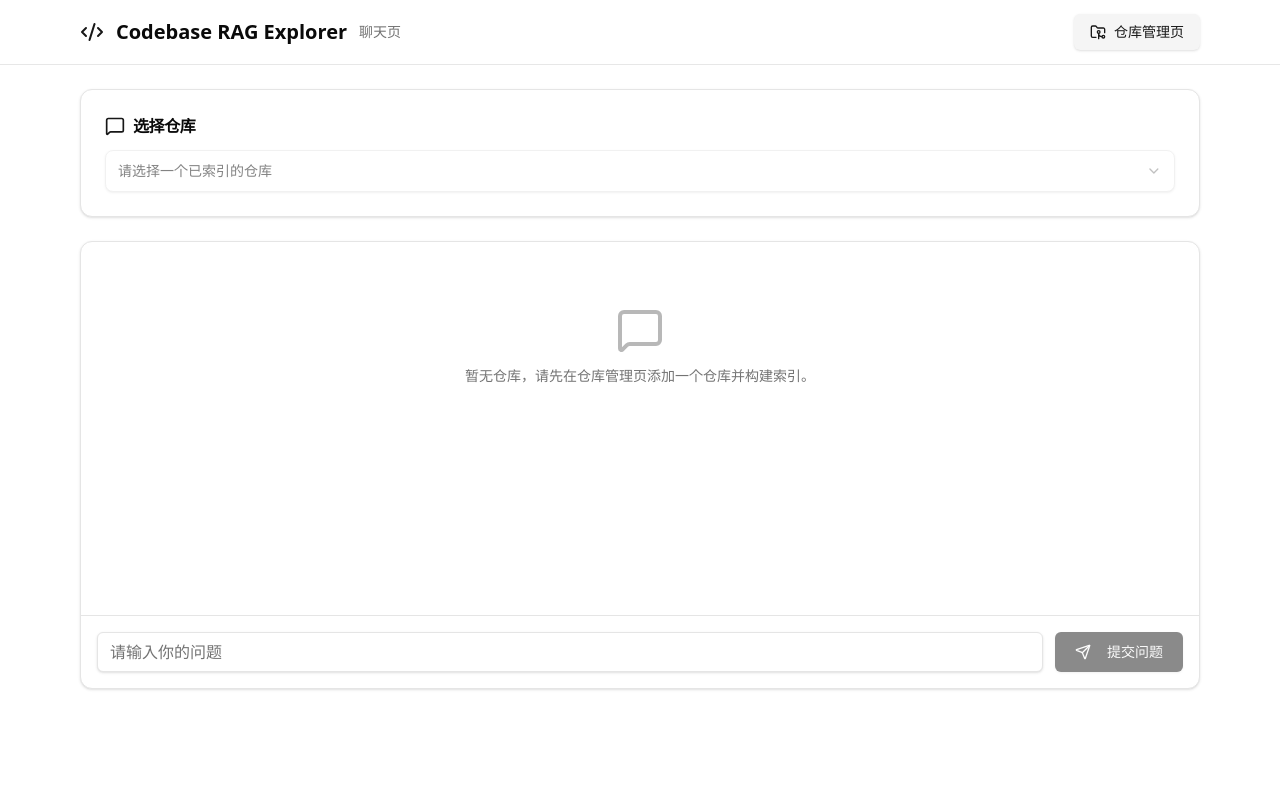
ChatPage › shows explicit guidance when asking before index is built
The width and height of the screenshot is (1280, 800).
Expected: the dropdown is shown, [105,150,1175,192]
Type "Why?" into the field with placeholder "请输入你的问题". click: [570, 652]
box: [97,632,1043,672]
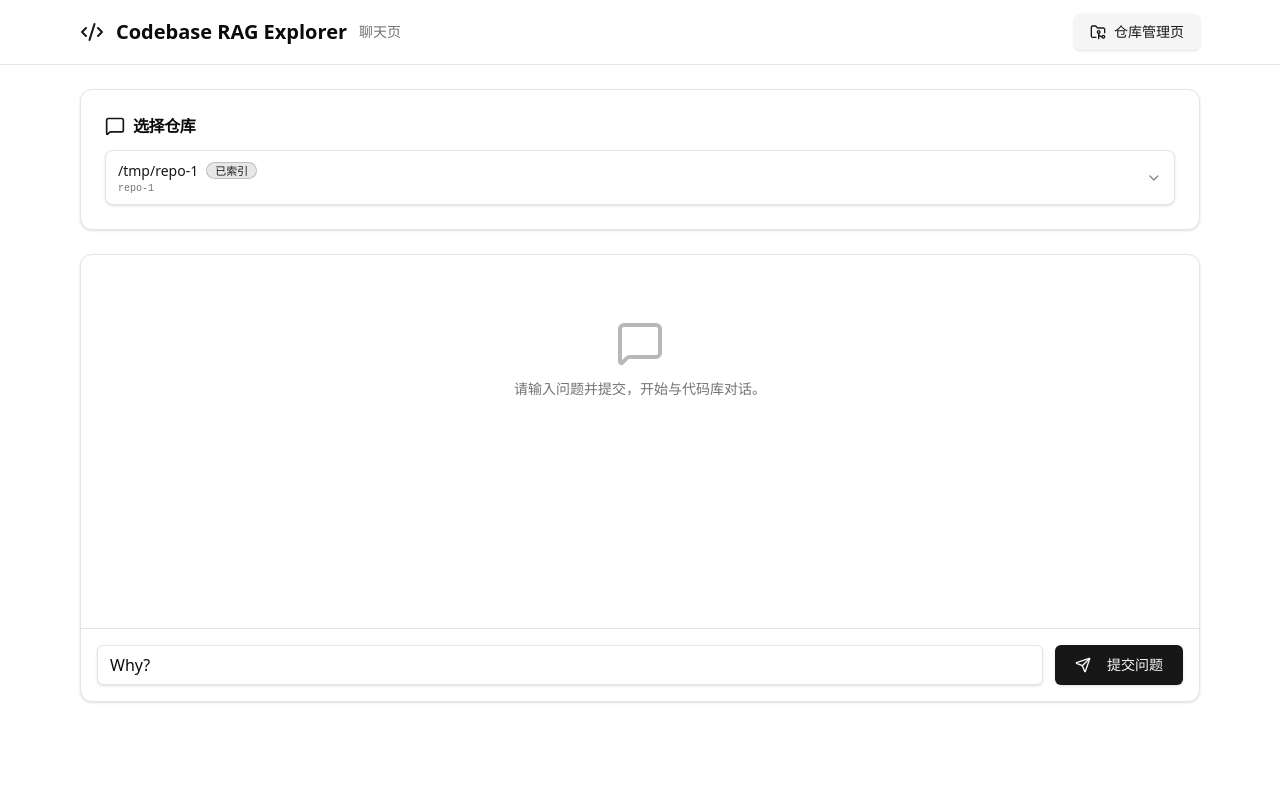
Click the button "提交问题". click: [1119, 665]
box: [1055,645,1183,685]
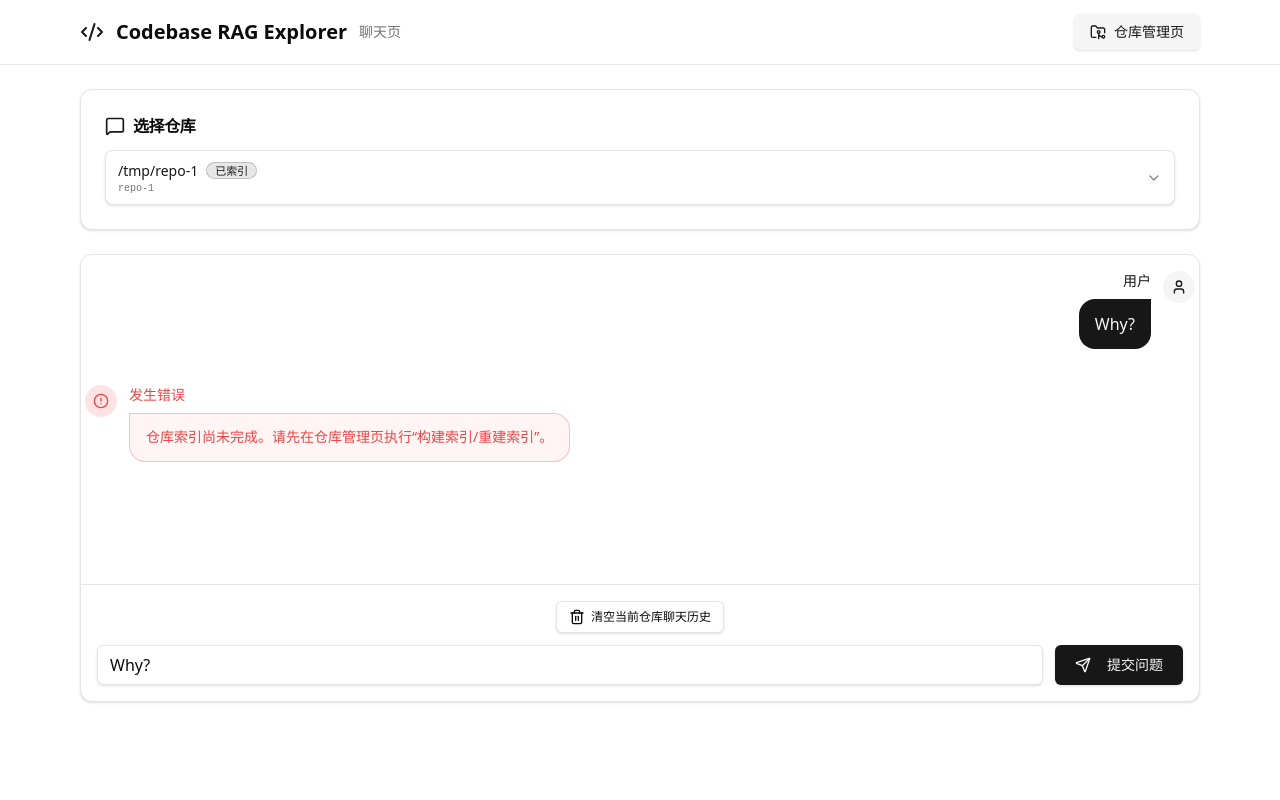
Result: the text "仓库索引尚未完成。请先在仓库管理页执行“构建索引/重建索引”。" is shown at [146,426,553,449]
